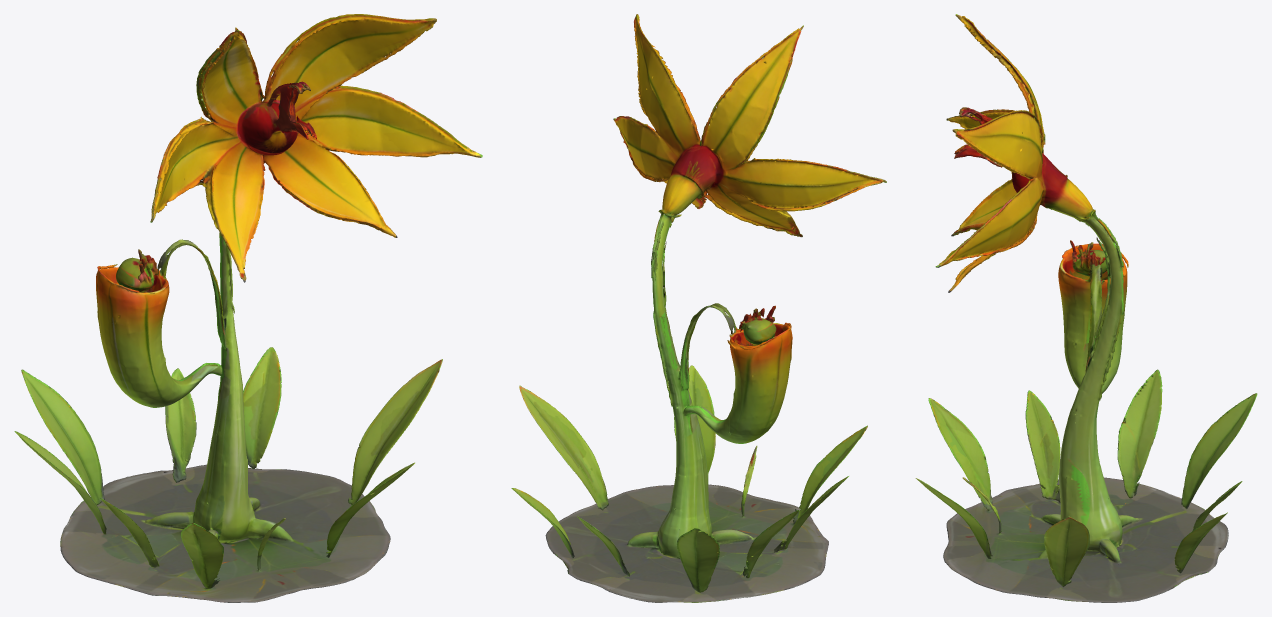
File: Golden_Bloom_Fantasy.glb
3 views of the same model, side by side, from view 1: azimuth 30°, elevation 25°; view 2: azimuth 150°, elevation 25°; view 3: azimuth 270°, elevation 25° (orthographic). The views are drawn at different scales.
Size of the model in its own units: 1.38 by 1.99 by 1.23.
Materials: 1 (1 with a texture image).
